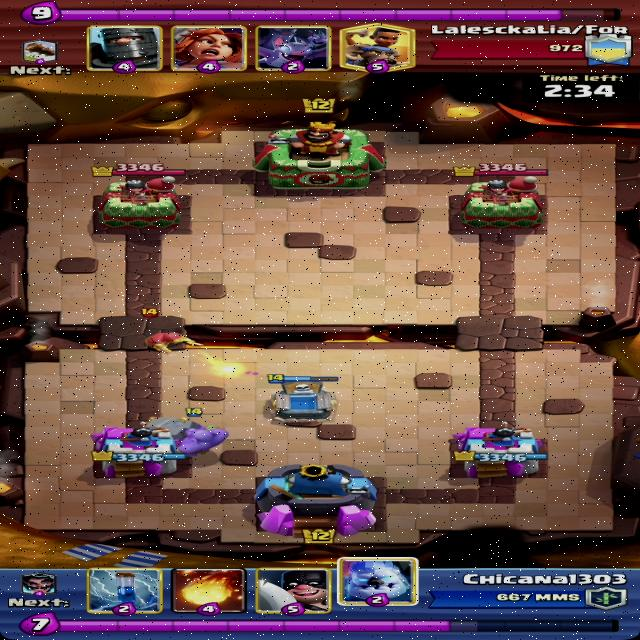Enemy-Wizard: (140, 308, 203, 354)
Player-Bowler: (140, 406, 230, 456)
Player-Tombstone: (266, 374, 338, 424)
